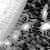node 1: (41, 22, 50, 33)
node 2: (21, 22, 31, 32)
